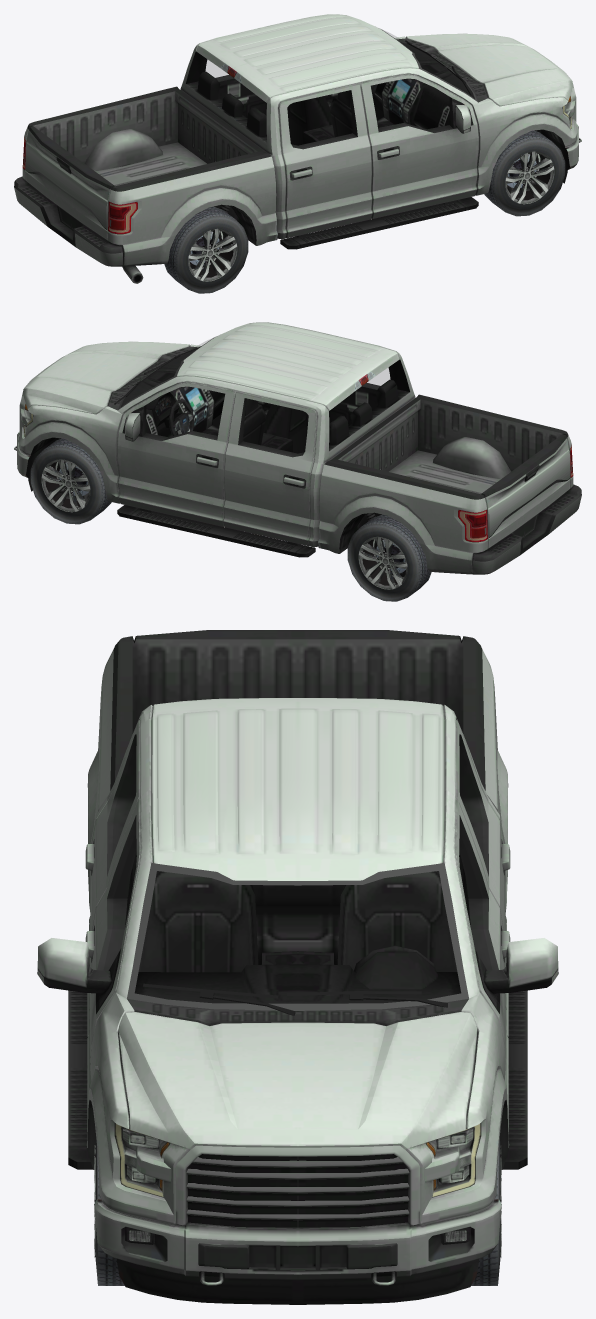
The model's file is 2015_ford_f-150.glb.
3 views of the same model, one above another, from view 1: azimuth 30°, elevation 25°; view 2: azimuth 150°, elevation 25°; view 3: azimuth 270°, elevation 25° (orthographic). The views are drawn at different scales.
Visible parts, largest first — view 1: f_150_ref.smd_0, 20in_offroad_3.smd.003_4, 20in_offroad_3.smd.001_2; view 2: f_150_ref.smd_0, 20in_offroad_3.smd.002_3, 20in_offroad_3.smd_1; view 3: f_150_ref.smd_0, 20in_offroad_3.smd.001_2, 20in_offroad_3.smd_1.
Part boxes in pixels (x1,y1,x2,y2): f_150_ref.smd_0: (14, 14, 581, 283); 20in_offroad_3.smd.003_4: (164, 206, 248, 293); 20in_offroad_3.smd.001_2: (484, 130, 565, 216); f_150_ref.smd_0: (14, 322, 581, 574); 20in_offroad_3.smd.002_3: (347, 514, 431, 601); 20in_offroad_3.smd_1: (30, 438, 111, 524); f_150_ref.smd_0: (37, 630, 558, 1304); 20in_offroad_3.smd.001_2: (94, 1138, 124, 1285); 20in_offroad_3.smd_1: (471, 1138, 501, 1285).
Bounding box in the file's own units: 4.51 × 1.48 × 2.03.
4 materials, 4 textured.
